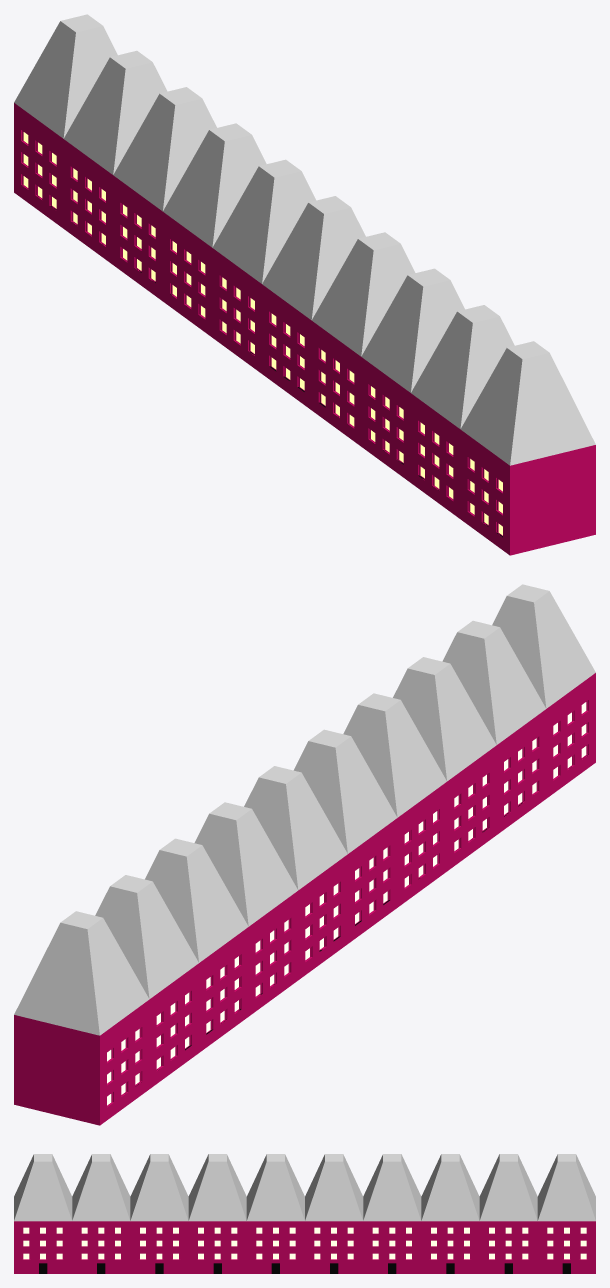
The model's file is 3_storey_house_3.fbx.
3 views of the same model, one above another, from view 1: azimuth 30°, elevation 25°; view 2: azimuth 150°, elevation 25°; view 3: azimuth 270°, elevation 25° (orthographic). The views are drawn at different scales.
Visible parts, largest first — view 1: Cube; view 2: Cube; view 3: Cube.
Part boxes in pixels (x1,y1,x2,y2): Cube: (14,14,595,555); Cube: (14,584,595,1125); Cube: (14,1154,595,1273).
Size of the model in its own units: 28 by 55.07 by 280.
